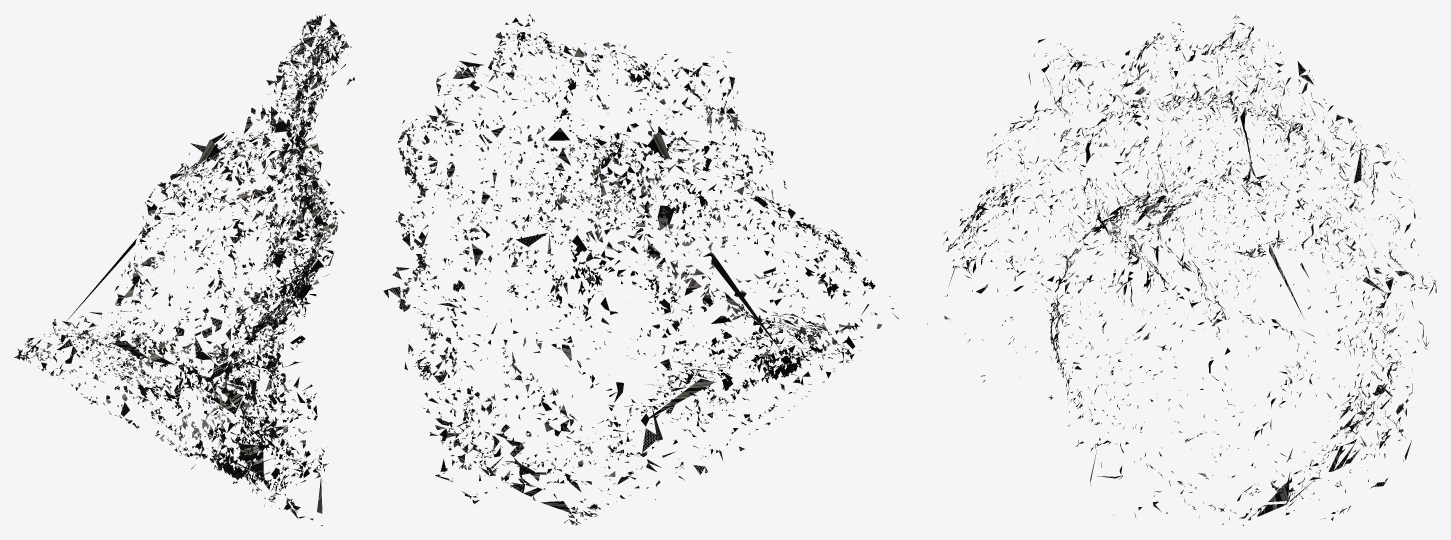
The picture shows the model from 3 angles, left to right: view 1: azimuth 30°, elevation 25°; view 2: azimuth 150°, elevation 25°; view 3: azimuth 270°, elevation 25°; orthographic projection. The views are drawn at different scales.
Visible parts, largest first — view 1: test7; view 2: test7; view 3: test7.
Part boxes in pixels (x1=…): test7: x1=14, y1=14, x2=354, y2=525; test7: x1=383, y1=14, x2=898, y2=525; test7: x1=927, y1=15, x2=1436, y2=525.
Bounding box in the file's own units: 1.18 × 1.47 × 1.28.
Materials: 1 (1 with a texture image).
